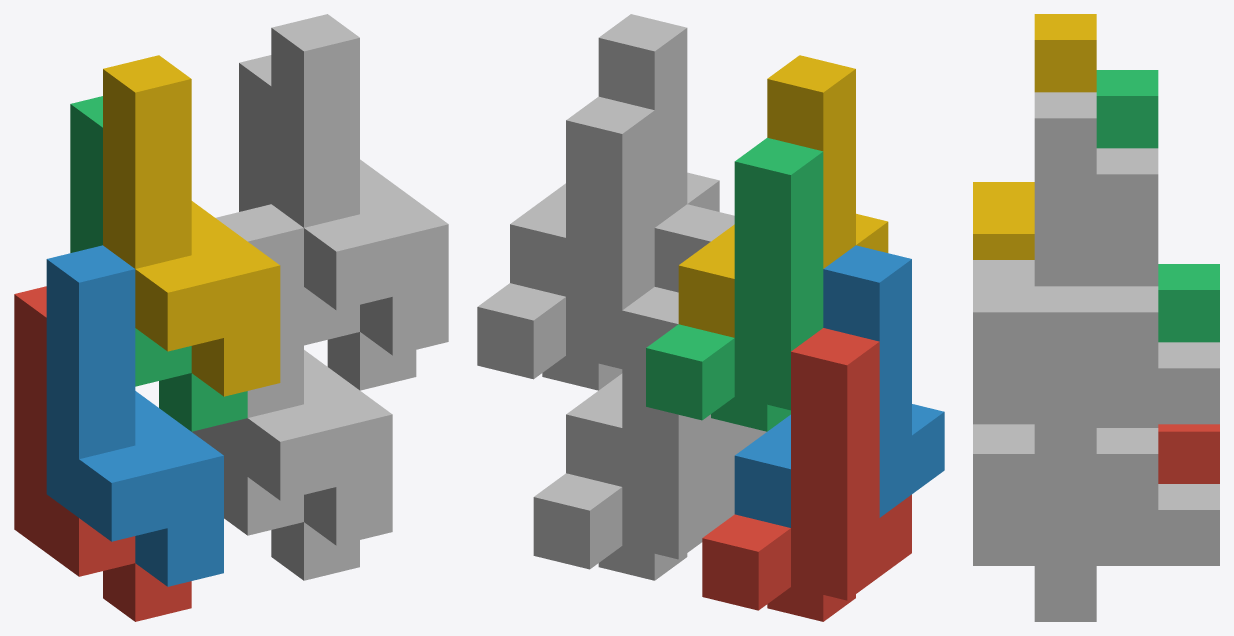
File: tiling.obj
3 renders of one model, left to right at view 1: azimuth 30°, elevation 25°; view 2: azimuth 150°, elevation 25°; view 3: azimuth 270°, elevation 25°, orthographic. The views are drawn at different scales.
Visible parts, largest first — view 1: copy_1_domain_2, copy_1_domain_4, copy_1_domain_8, copy_1_domain_6, copy_1_domain_1, copy_1_domain_3, copy_1_domain_7, copy_1_domain_5; view 2: copy_1_domain_1, copy_1_domain_3, copy_1_domain_7, copy_1_domain_5, copy_1_domain_2, copy_1_domain_8, copy_1_domain_4, copy_1_domain_6; view 3: copy_1_domain_8, copy_1_domain_7, copy_1_domain_5, copy_1_domain_6, copy_1_domain_3, copy_1_domain_4, copy_1_domain_1.
Boxes of the visible parts, x1,y1,x2,y2 form: copy_1_domain_2: (46, 245, 223, 586); copy_1_domain_4: (103, 55, 280, 396); copy_1_domain_8: (271, 14, 448, 355); copy_1_domain_6: (215, 204, 392, 545); copy_1_domain_1: (14, 286, 191, 621); copy_1_domain_3: (70, 96, 247, 431); copy_1_domain_7: (239, 55, 416, 390); copy_1_domain_5: (192, 426, 359, 580); copy_1_domain_1: (702, 328, 911, 621); copy_1_domain_3: (646, 137, 823, 431); copy_1_domain_7: (477, 96, 654, 390); copy_1_domain_5: (533, 287, 734, 580); copy_1_domain_2: (734, 245, 944, 527); copy_1_domain_8: (510, 14, 719, 296); copy_1_domain_4: (678, 55, 888, 337); copy_1_domain_6: (566, 204, 766, 486); copy_1_domain_8: (973, 92, 1158, 424); copy_1_domain_7: (1034, 148, 1219, 480); copy_1_domain_5: (1034, 424, 1219, 621); copy_1_domain_6: (973, 424, 1158, 565); copy_1_domain_3: (1096, 70, 1219, 342); copy_1_domain_4: (973, 14, 1096, 259); copy_1_domain_1: (1158, 424, 1219, 483).
Bounding box in the file's own units: 6 × 9 × 4.
